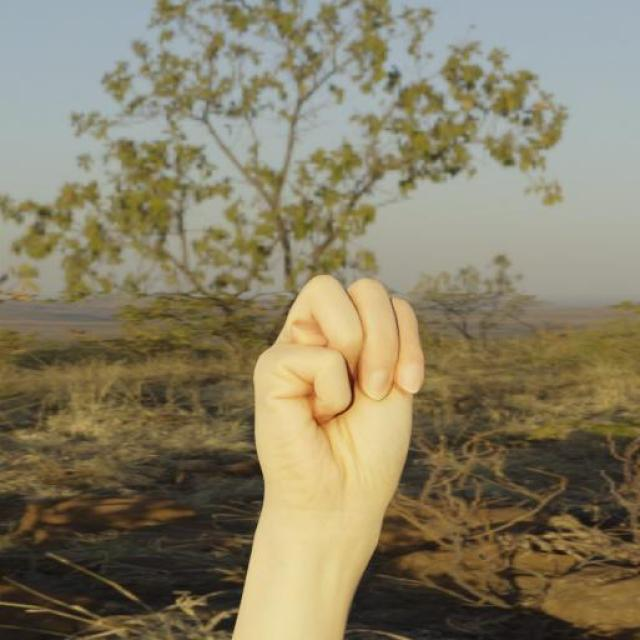M: (249, 272, 426, 530)
